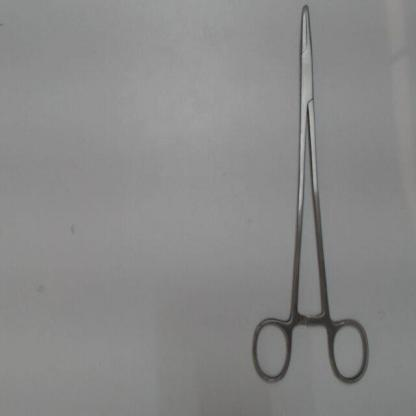8 Mayo Needle Holder: (241, 2, 375, 392)
